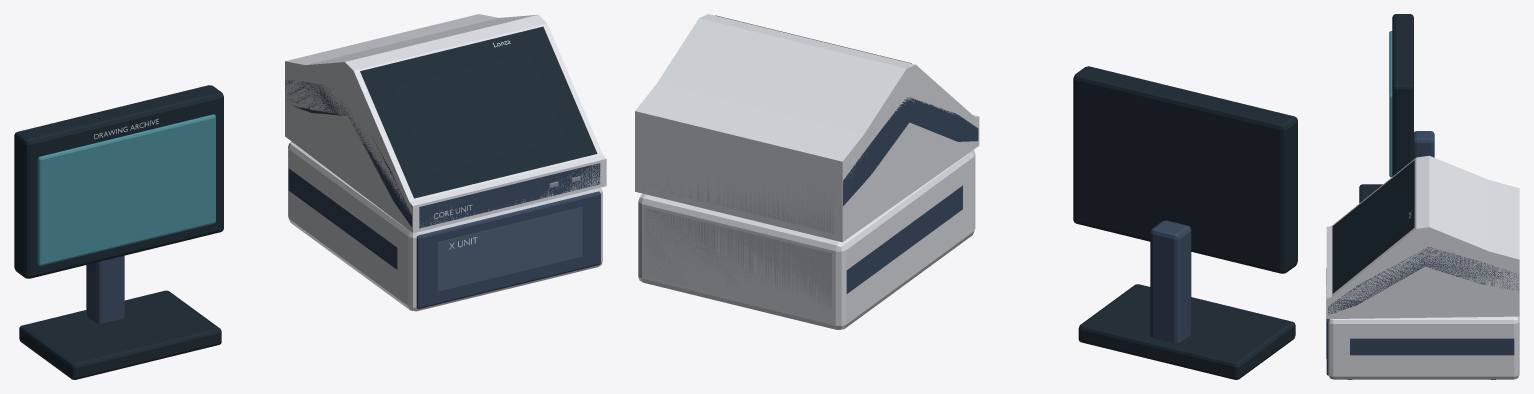
File: lonza-core-x.glb
3 views of the same model, side by side, from view 1: azimuth 30°, elevation 25°; view 2: azimuth 150°, elevation 25°; view 3: azimuth 270°, elevation 25° (orthographic). The views are drawn at different scales.
Parts seen in each view (by area): view 1: detached_outline_exhibit Fine navy seams, core_case_envelope, detached_outline_panel, core_static_blank_display, Core black frame, x_case_envelope, lonza_x_closed_module Deep blue fixed front and side trim, x_sealed_drawer_outline, lonza_core_closed_module Deep blue fixed front and side trim, Exhibit stem; view 2: core_case_envelope, detached_outline_exhibit Fine navy seams, x_case_envelope, Plain X rear silhouette, Exhibit stem, lonza_core_closed_module Deep blue fixed front and side trim, lonza_x_closed_module Deep blue fixed front and side trim, Plain Core rear silhouette; view 3: core_case_envelope, x_case_envelope, detached_outline_exhibit Fine navy seams, lonza_x_closed_module Deep blue fixed front and side trim, lonza_core_closed_module Deep blue fixed front and side trim, Core black frame, core_static_blank_display, detached_outline_panel, Exhibit stem.
Part boxes in pixels (x1,y1,x2,y2): detached_outline_exhibit Fine navy seams: (14,85,223,379); core_case_envelope: (285,14,606,233); detached_outline_panel: (37,114,215,265); core_static_blank_display: (393,53,566,172); Core black frame: (360,26,597,198); x_case_envelope: (288,141,602,311); lonza_x_closed_module Deep blue fixed front and side trim: (288,168,600,308); x_sealed_drawer_outline: (437,207,582,291); lonza_core_closed_module Deep blue fixed front and side trim: (285,80,600,228); Exhibit stem: (86,255,124,323); core_case_envelope: (635,14,979,242); detached_outline_exhibit Fine navy seams: (1073,66,1297,379); x_case_envelope: (638,150,975,329); Plain X rear silhouette: (645,208,831,313); Exhibit stem: (1150,220,1191,343); lonza_core_closed_module Deep blue fixed front and side trim: (843,97,978,205); lonza_x_closed_module Deep blue fixed front and side trim: (846,185,962,293); Plain Core rear silhouette: (643,161,834,233); core_case_envelope: (1326,155,1519,318); x_case_envelope: (1328,316,1519,379); detached_outline_exhibit Fine navy seams: (1359,14,1413,203); lonza_x_closed_module Deep blue fixed front and side trim: (1326,319,1514,375); lonza_core_closed_module Deep blue fixed front and side trim: (1328,247,1518,314); Core black frame: (1332,160,1414,293); core_static_blank_display: (1344,179,1399,274); detached_outline_panel: (1389,31,1392,177); Exhibit stem: (1414,131,1434,158).
Size of the model in its own units: 0.6786 by 0.2785 by 0.2805.
